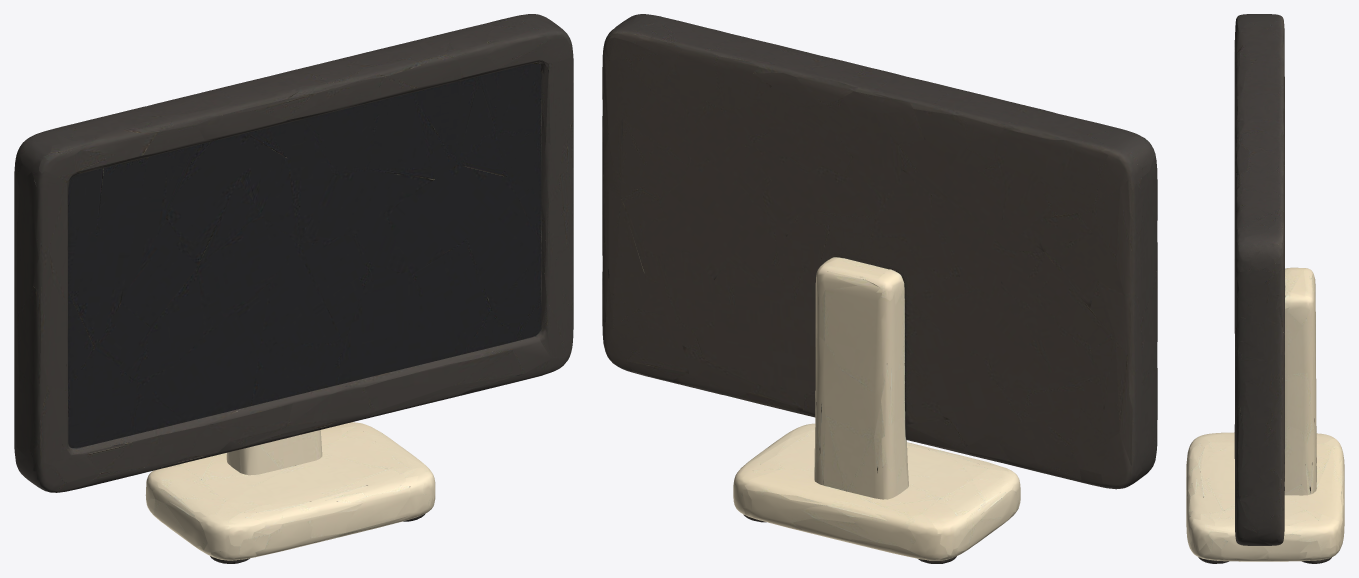
Rendered from monitor.glb.
The picture shows the model from 3 angles, left to right: view 1: azimuth 30°, elevation 25°; view 2: azimuth 150°, elevation 25°; view 3: azimuth 270°, elevation 25°; orthographic projection. The views are drawn at different scales.
Visible parts, largest first — view 1: mesh_node; view 2: mesh_node; view 3: mesh_node.
Boxes of the visible parts, box(x1,y1,x2,y2) form: mesh_node: box(14, 14, 573, 563); mesh_node: box(602, 14, 1157, 563); mesh_node: box(1186, 14, 1344, 563).
Size of the model in its own units: 0.32 by 0.249 by 0.0901.
Materials: 1 (1 with a texture image).
